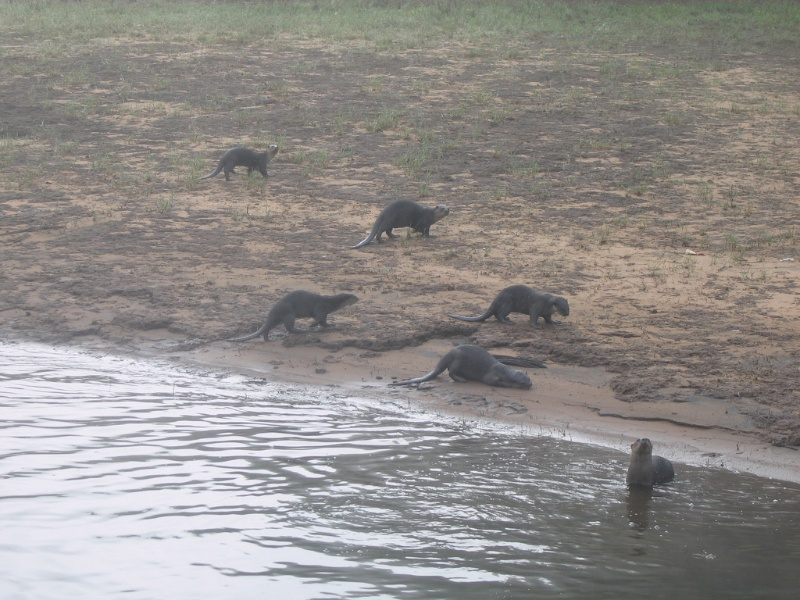minkish: (229, 291, 362, 348), (388, 344, 541, 391), (449, 284, 573, 328), (351, 201, 454, 249), (620, 430, 684, 498), (197, 138, 283, 186)
